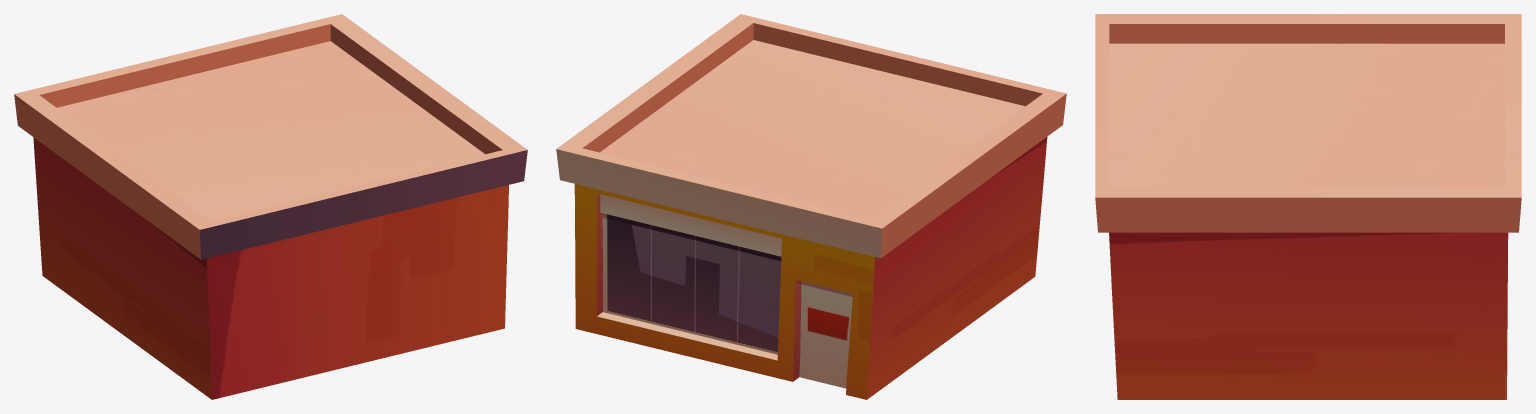
Rendered from Building_04.FBX.
3 renders of one model, left to right at view 1: azimuth 30°, elevation 25°; view 2: azimuth 150°, elevation 25°; view 3: azimuth 270°, elevation 25°, orthographic. The views are drawn at different scales.
Parts seen in each view (by area): view 1: Building_04; view 2: Building_04; view 3: Building_04.
Part boxes in pixels (x1,y1,x2,y2): Building_04: (14, 14, 527, 399); Building_04: (556, 14, 1066, 399); Building_04: (1095, 14, 1521, 399).
Bounding box in the file's own units: 1054 × 560 × 1033.
